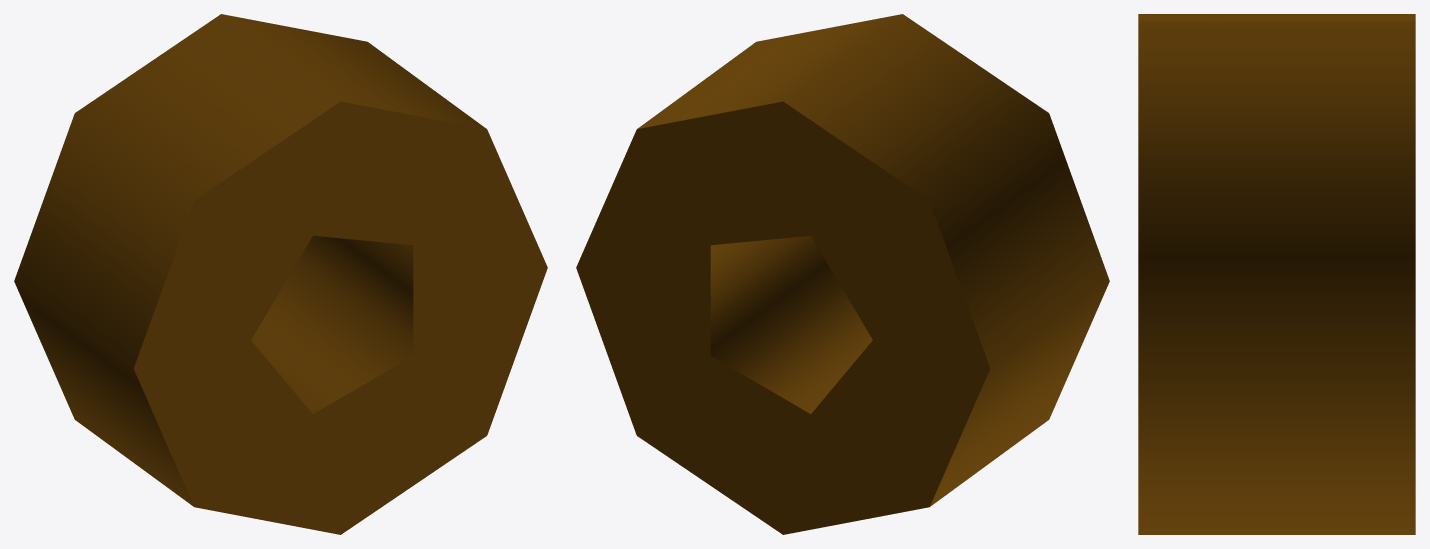
File: Pallier barillet Quarts arriere.obj
The picture shows the model from 3 angles, left to right: view 1: azimuth 30°, elevation 25°; view 2: azimuth 150°, elevation 25°; view 3: azimuth 270°, elevation 25°; orthographic projection. The views are drawn at different scales.
Visible parts, largest first — view 1: Face_2, Face_3, Face_4; view 2: Face_1, Face_3, Face_4; view 3: Face_3.
Boxes of the visible parts, bbox=[...] form: Face_2: bbox=[133, 101, 547, 534]; Face_3: bbox=[14, 14, 486, 506]; Face_4: bbox=[251, 235, 413, 413]; Face_1: bbox=[576, 101, 990, 534]; Face_3: bbox=[637, 14, 1109, 506]; Face_4: bbox=[710, 235, 872, 413]; Face_3: bbox=[1138, 14, 1415, 534].
Bounding box in the file's own units: 0.012 × 0.012 × 0.006.
